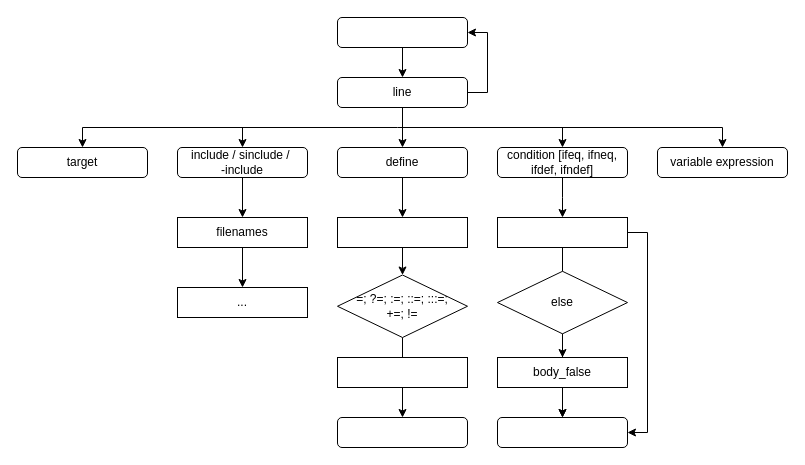
Image size: 805x465. Some labels were removed from this diagram. The centre of each missing label's shape, as x and y in pixels:
"body_true" belongs at (x=562, y=232).
"define_body ..." belongs at (x=402, y=372).
"define_name" belongs at (x=402, y=232).
"endef" belongs at (x=402, y=432).
"endif" belongs at (x=562, y=432).
"input" belongs at (x=402, y=32).
